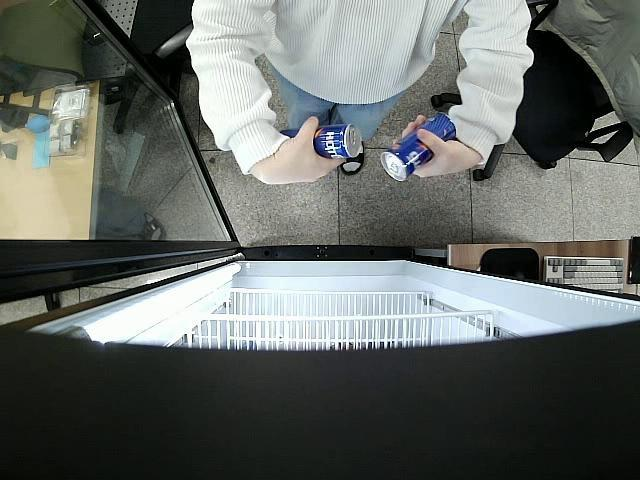16_hot6: (382, 111, 456, 180), (280, 122, 360, 157)
